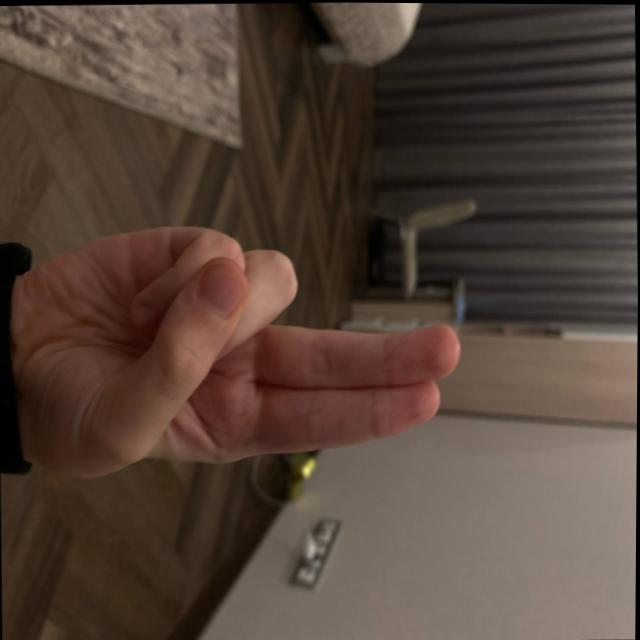ts: (11, 180, 465, 522)
